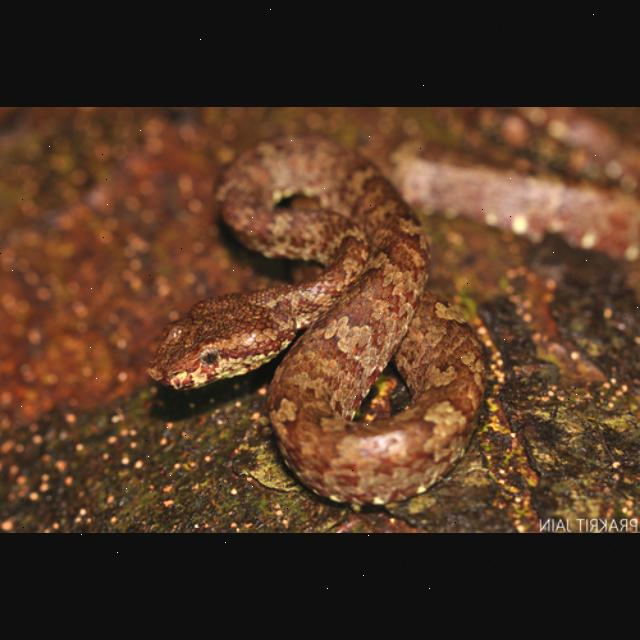snake: (147, 132, 508, 508)
